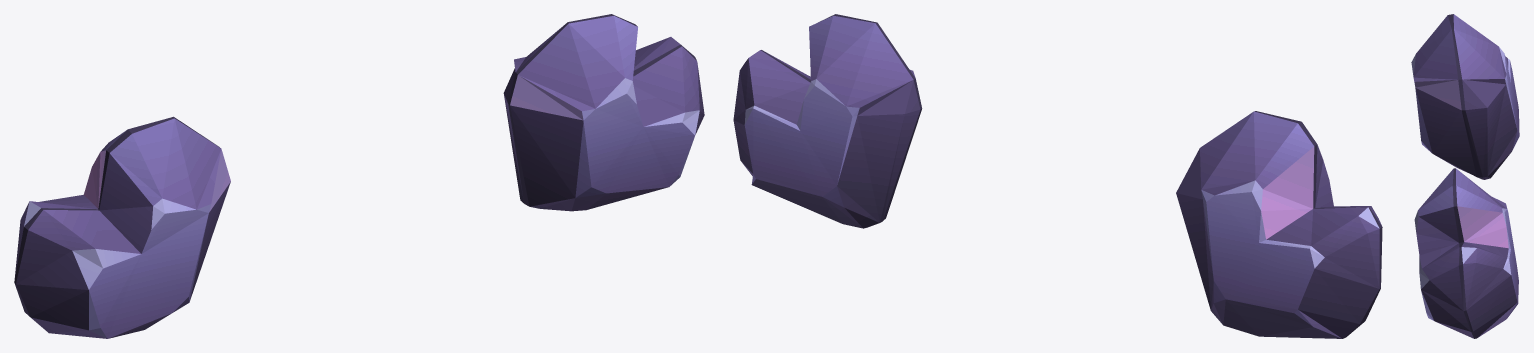
Rendered from CharSkyKid_Hat_CrystalHearts.glb.
The picture shows the model from 3 angles, left to right: view 1: azimuth 30°, elevation 25°; view 2: azimuth 150°, elevation 25°; view 3: azimuth 270°, elevation 25°; orthographic projection. The views are drawn at different scales.
Parts seen in each view (by area): view 1: CharSkyKid_Hat_CrystalHearts; view 2: CharSkyKid_Hat_CrystalHearts; view 3: CharSkyKid_Hat_CrystalHearts.
Boxes of the visible parts, x1,y1,x2,y2 form: CharSkyKid_Hat_CrystalHearts: (14,14,704,338); CharSkyKid_Hat_CrystalHearts: (733,14,1382,338); CharSkyKid_Hat_CrystalHearts: (1411,14,1519,338).
Bounding box in the file's own units: 3.12 × 0.9373 × 0.6025.
Materials: 1 (1 with a texture image).
